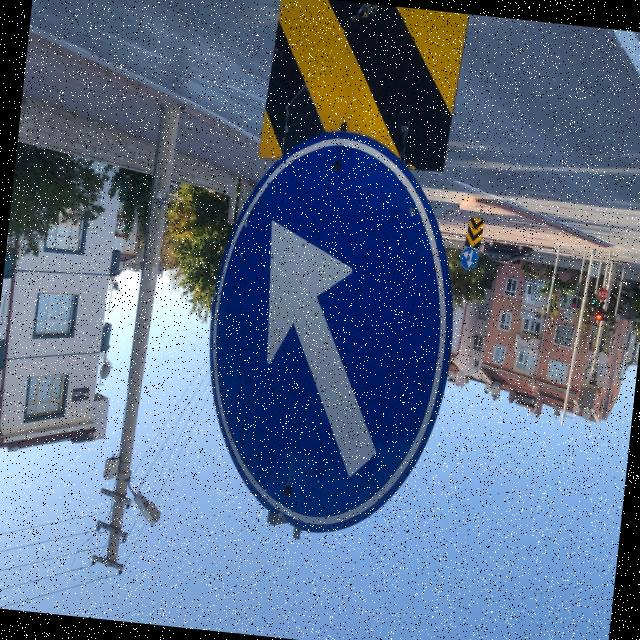compulsory_keep_right: (190, 118, 477, 553)
